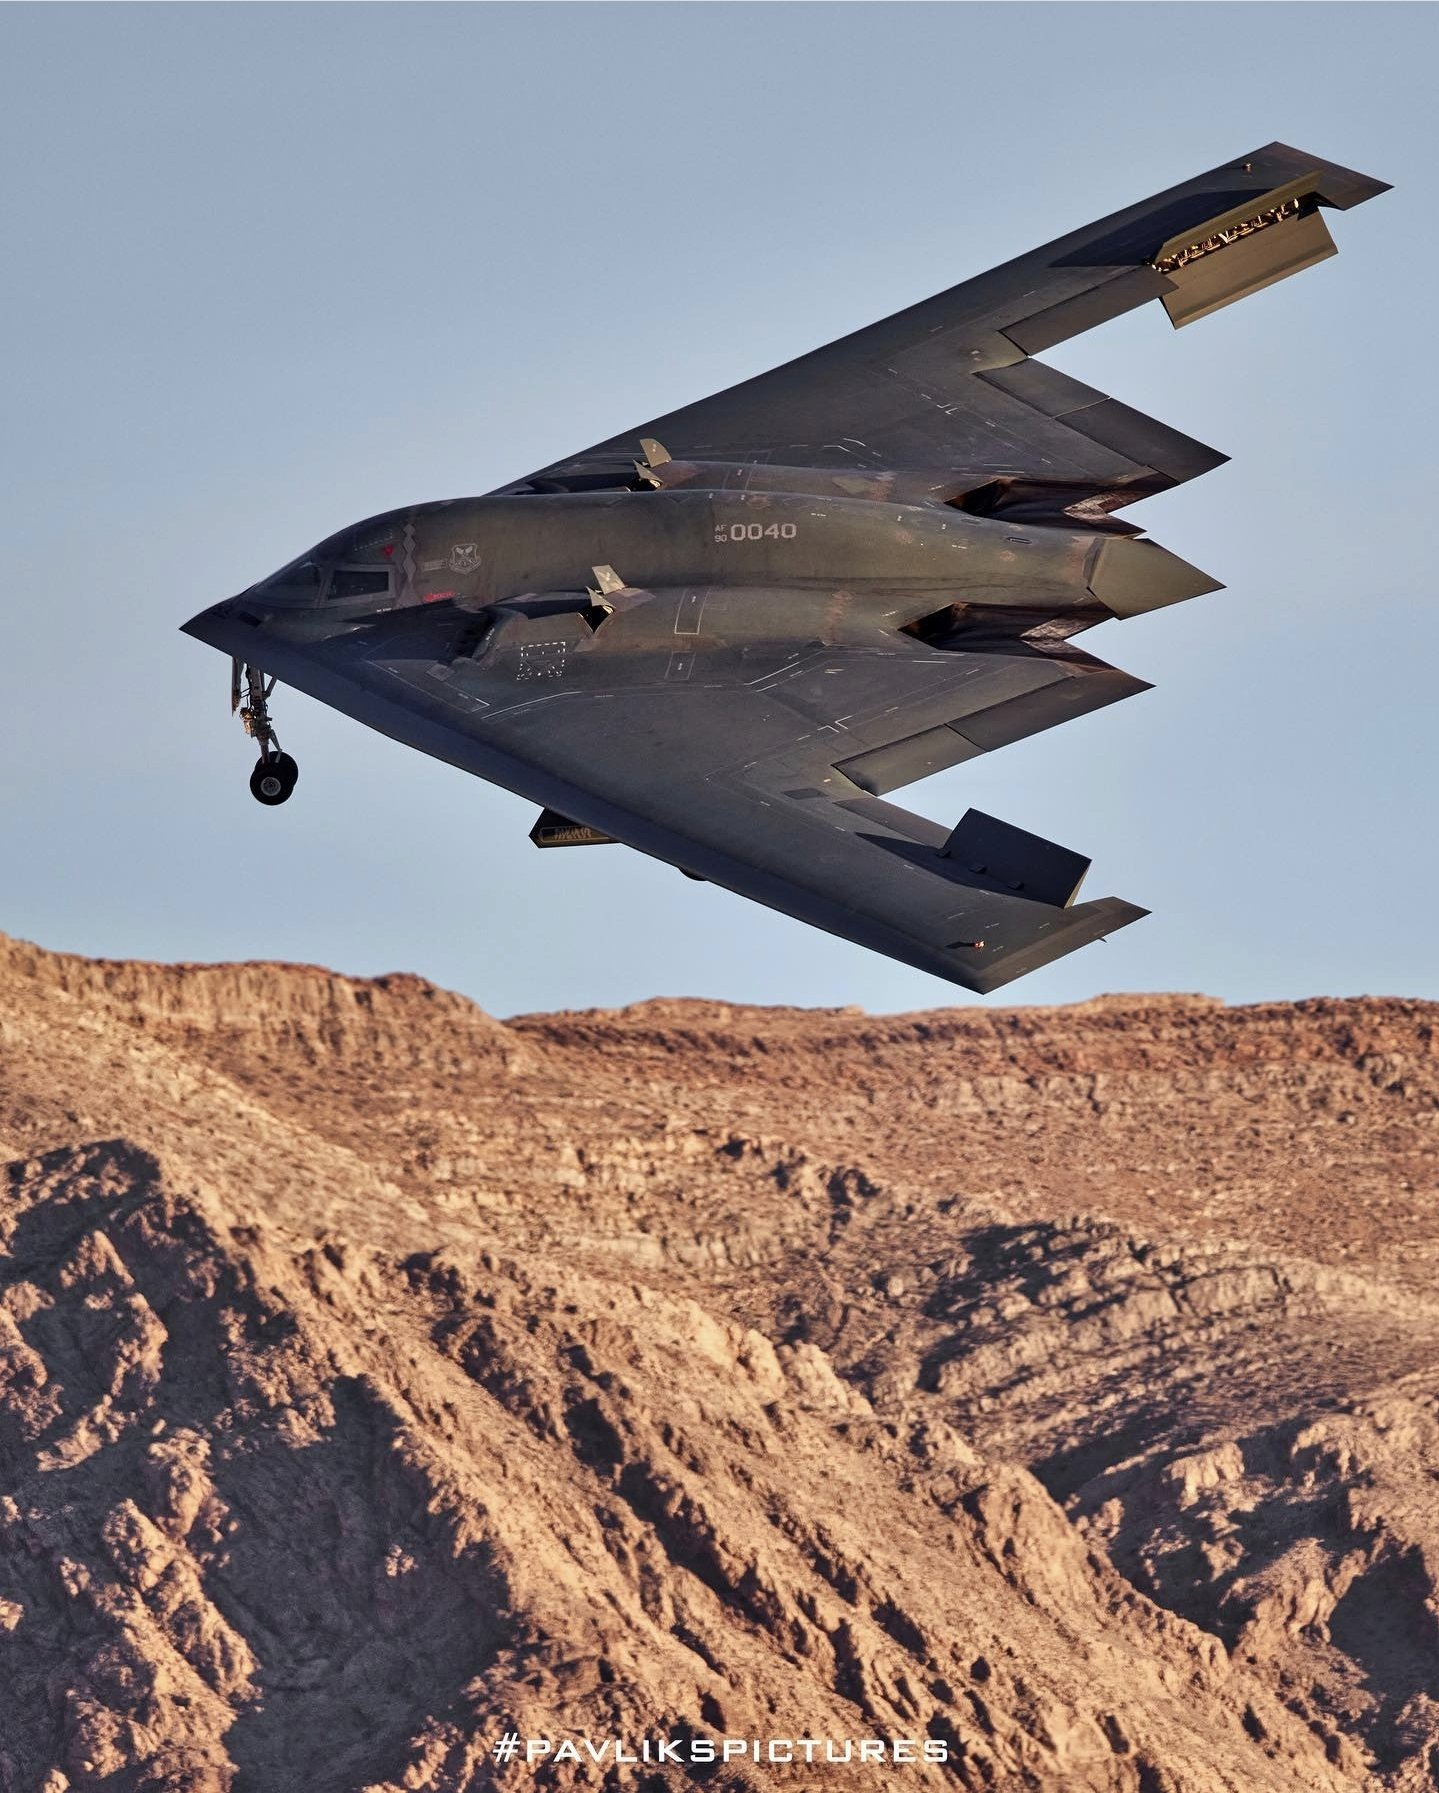B2: (178, 140, 1396, 996)
